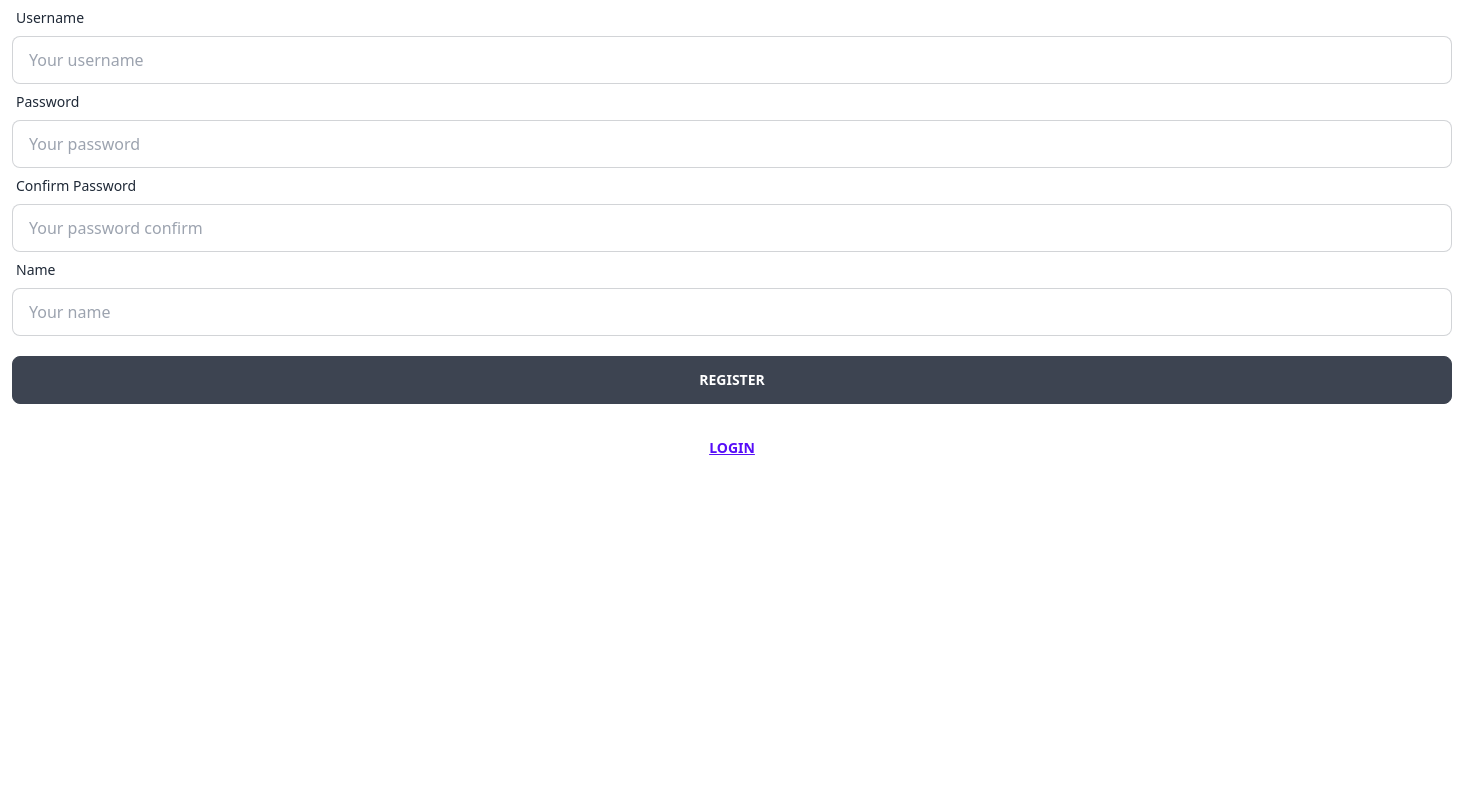
Test: RegisterForm › should show form errors
Click the button "Register": {"x": 732, "y": 380} x1=12 y1=356 x2=1452 y2=404
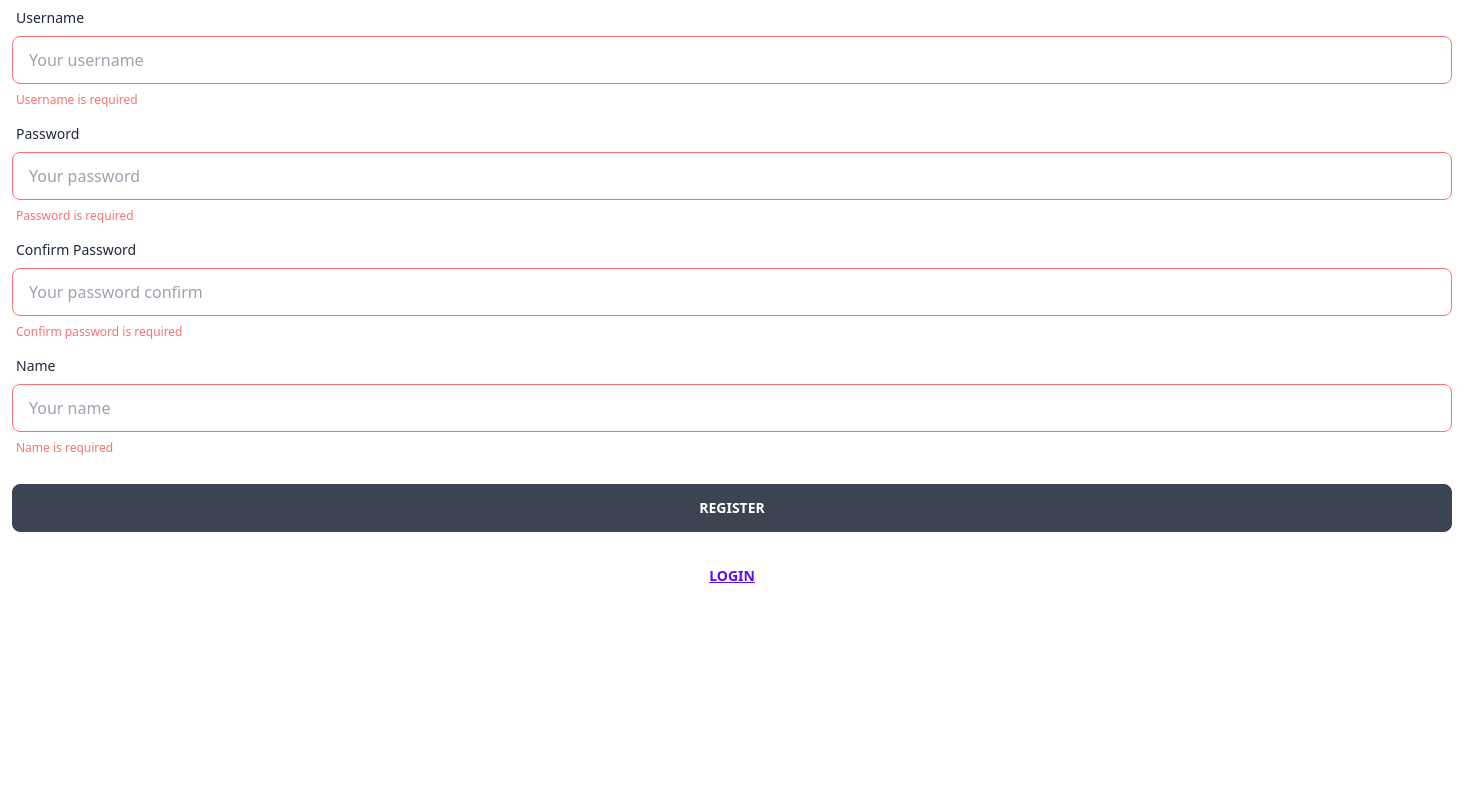
Expected: the text "Username is required" is shown, x1=16 y1=92 x2=138 y2=108
Expected: the text "Password is required" is shown, x1=16 y1=208 x2=134 y2=224
Expected: the text "Confirm password is required" is shown, x1=16 y1=324 x2=182 y2=340
